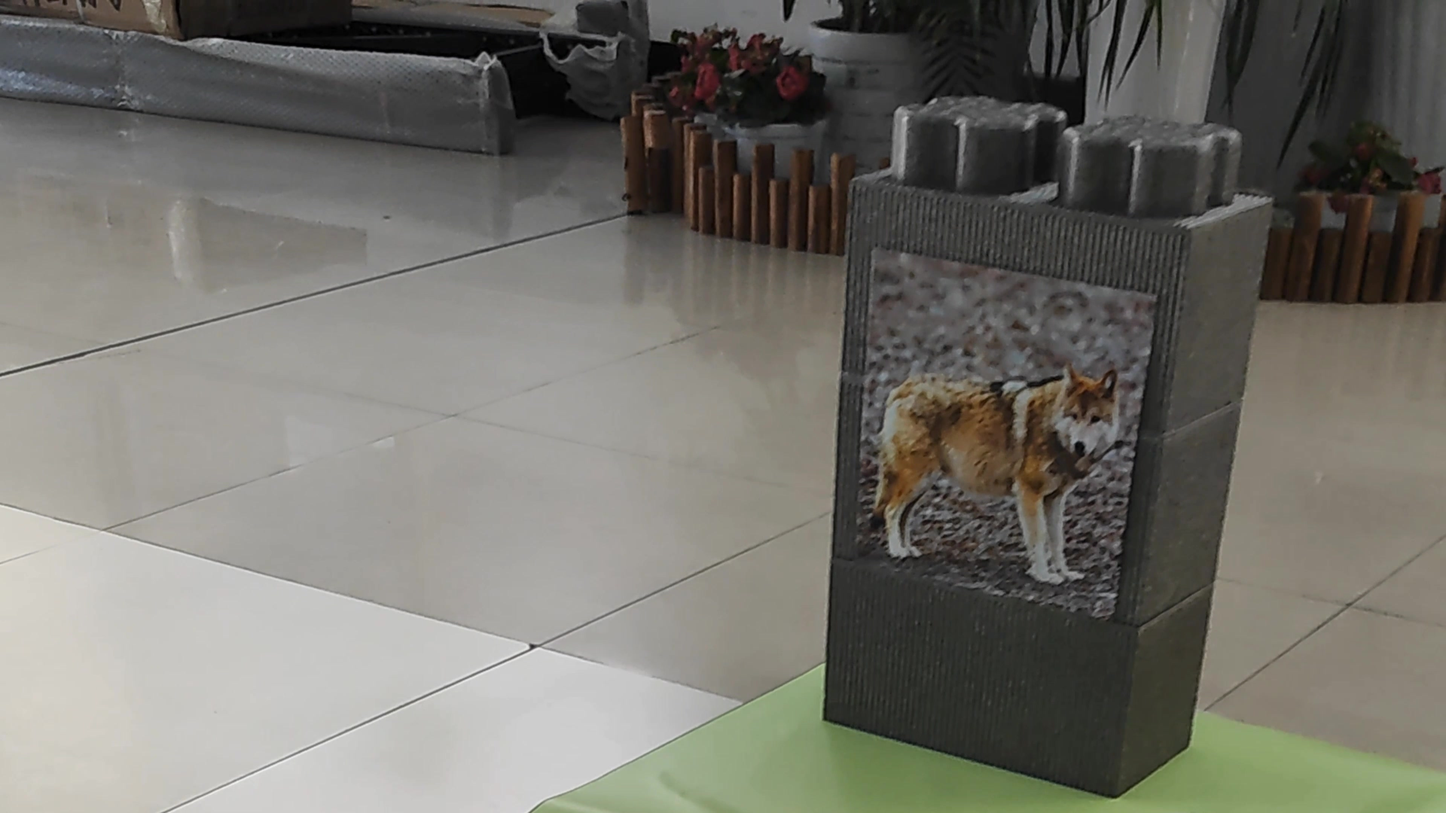wolf: (854, 265, 1129, 571)
